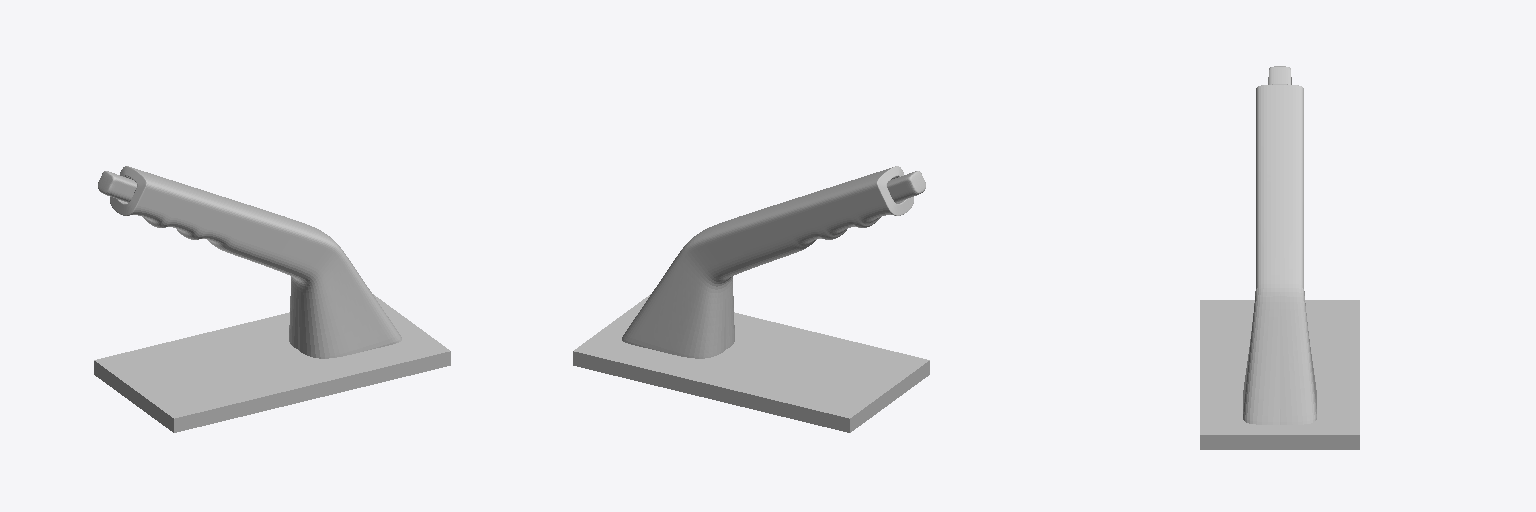
The model's file is handbrake.obj.
3 renders of one model, left to right at view 1: azimuth 30°, elevation 25°; view 2: azimuth 150°, elevation 25°; view 3: azimuth 270°, elevation 25°, orthographic.
Parts seen in each view (by area): view 1: Cube, Cube.001; view 2: Cube, Cube.001; view 3: Cube.001, Cube.
Boxes of the visible parts, x1,y1,x2,y2 form: Cube: [94, 294, 450, 432]; Cube.001: [98, 166, 401, 358]; Cube: [573, 294, 929, 432]; Cube.001: [622, 166, 925, 358]; Cube.001: [1243, 66, 1316, 424]; Cube: [1200, 300, 1359, 449].
Size of the model in its own units: 0.2239 by 0.163 by 0.1.